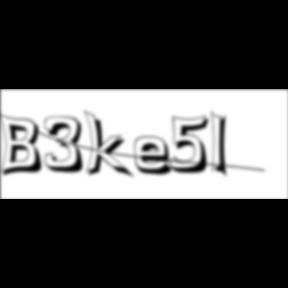3: (45, 116, 91, 176)
5: (168, 114, 216, 176)
B: (0, 111, 48, 179)
e: (134, 135, 180, 178)
k: (83, 108, 136, 181)
l: (212, 108, 234, 182)
